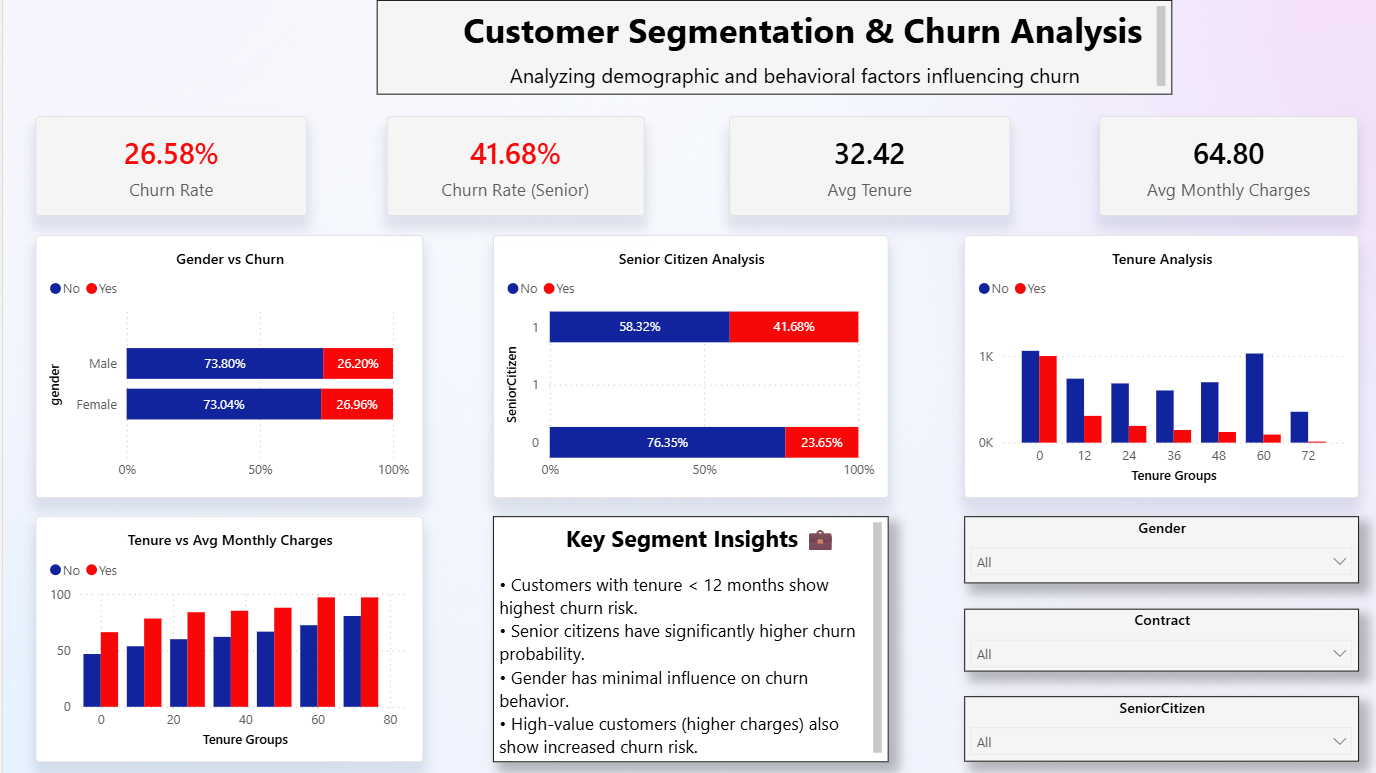

The page's visual inventory and layout, read from the dashboard file:
{"tool":"powerbi","page":{"name":"Customer Segmentation","canvas":[1280,720],"ordinal":1},"visuals":[{"type":"card","fields":{"Values":["Telco_Customer_Churn.Churn Rate"]},"box":[30.6,107.6,253.1,92.9],"z":0},{"type":"card","fields":{"Values":["Telco_Customer_Churn.Avg Tenure"]},"box":[675,107.6,261.7,92.9],"z":1000},{"type":"card","fields":{"Values":["Telco_Customer_Churn.Avg Monthly Charges"]},"box":[1019.8,107.6,240.9,92.9],"z":2000},{"type":"hundredPercentStackedBarChart","title":"Gender vs Churn","fields":{"Category":["Telco_Customer_Churn.gender"],"Y":["Count(Telco_Customer_Churn.Customer ID)"],"Series":["Telco_Customer_Churn.Churn"]},"box":[30.6,218.9,360.7,244.6],"z":3000},{"type":"hundredPercentStackedBarChart","title":"Senior Citizen Analysis","fields":{"Category":["Telco_Customer_Churn.SeniorCitizen"],"Y":["Count(Telco_Customer_Churn.Customer ID)"],"Series":["Telco_Customer_Churn.Churn"]},"box":[456.1,218.9,368.1,244.6],"z":4000},{"type":"clusteredColumnChart","title":"Tenure Analysis","fields":{"Category":["Telco_Customer_Churn.tenure (bins)"],"Y":["CountNonNull(Telco_Customer_Churn.Customer ID)"],"Series":["Telco_Customer_Churn.Churn"]},"box":[893.9,218.9,366.8,244.6],"z":5000},{"type":"slicer","title":"Gender","fields":{"Values":["Telco_Customer_Churn.gender"]},"box":[893.9,480.6,366.8,62.4],"z":6000},{"type":"slicer","title":"Contract","fields":{"Values":["Telco_Customer_Churn.Contract"]},"box":[893.9,566.2,366.8,58.7],"z":7000},{"type":"slicer","title":"SeniorCitizen","fields":{"Values":["Telco_Customer_Churn.SeniorCitizen"]},"box":[893.9,648.1,366.8,61.1],"z":8000},{"type":"textbox","box":[456.1,480.6,368.1,228.7],"z":9000},{"type":"card","fields":{"Values":["Telco_Customer_Churn.Churn Rate (Senior)"]},"box":[357.1,107.6,239.7,92.9],"z":10000},{"type":"clusteredColumnChart","title":"Tenure vs Avg Monthly Charges","fields":{"Category":["Telco_Customer_Churn.tenure (bins)"],"Y":["Telco_Customer_Churn.Avg Monthly Charges"],"Series":["Telco_Customer_Churn.Churn"]},"box":[30.6,480.6,360.7,228.7],"z":11000},{"type":"textbox","box":[347.3,0,739.8,88],"z":12000}]}

Visuals, with their boxes in screenshot pixels (x1, y1, x2, y2), scaled from the page's 1280x720 canvas onto the 1376x773 screenshot:
card - Telco_Customer_Churn.Churn Rate: BBox(33, 116, 305, 215)
card - Telco_Customer_Churn.Avg Tenure: BBox(726, 116, 1007, 215)
card - Telco_Customer_Churn.Avg Monthly Charges: BBox(1096, 116, 1355, 215)
"Gender vs Churn" hundredPercentStackedBarChart: BBox(33, 235, 421, 498)
"Senior Citizen Analysis" hundredPercentStackedBarChart: BBox(490, 235, 886, 498)
"Tenure Analysis" clusteredColumnChart: BBox(961, 235, 1355, 498)
"Gender" slicer: BBox(961, 516, 1355, 583)
"Contract" slicer: BBox(961, 608, 1355, 671)
"SeniorCitizen" slicer: BBox(961, 696, 1355, 761)
textbox: BBox(490, 516, 886, 762)
card - Telco_Customer_Churn.Churn Rate (Senior): BBox(384, 116, 642, 215)
"Tenure vs Avg Monthly Charges" clusteredColumnChart: BBox(33, 516, 421, 762)
textbox: BBox(373, 0, 1169, 94)
